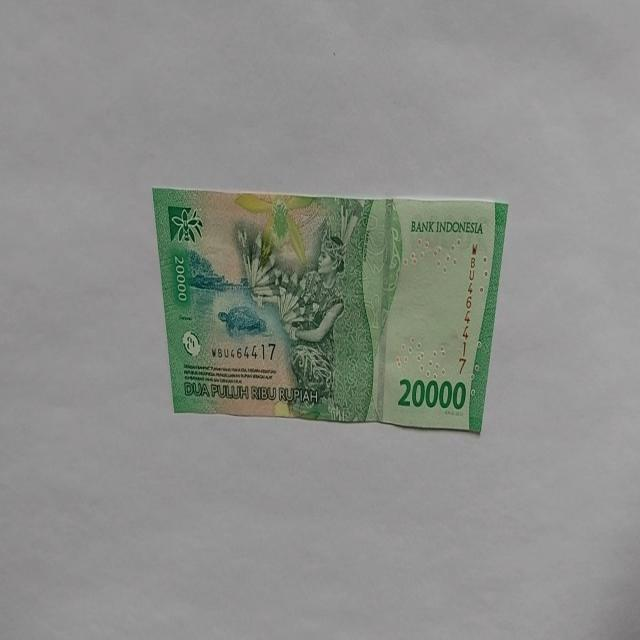dua puluh ribu rupiah: (151, 186, 509, 434)
